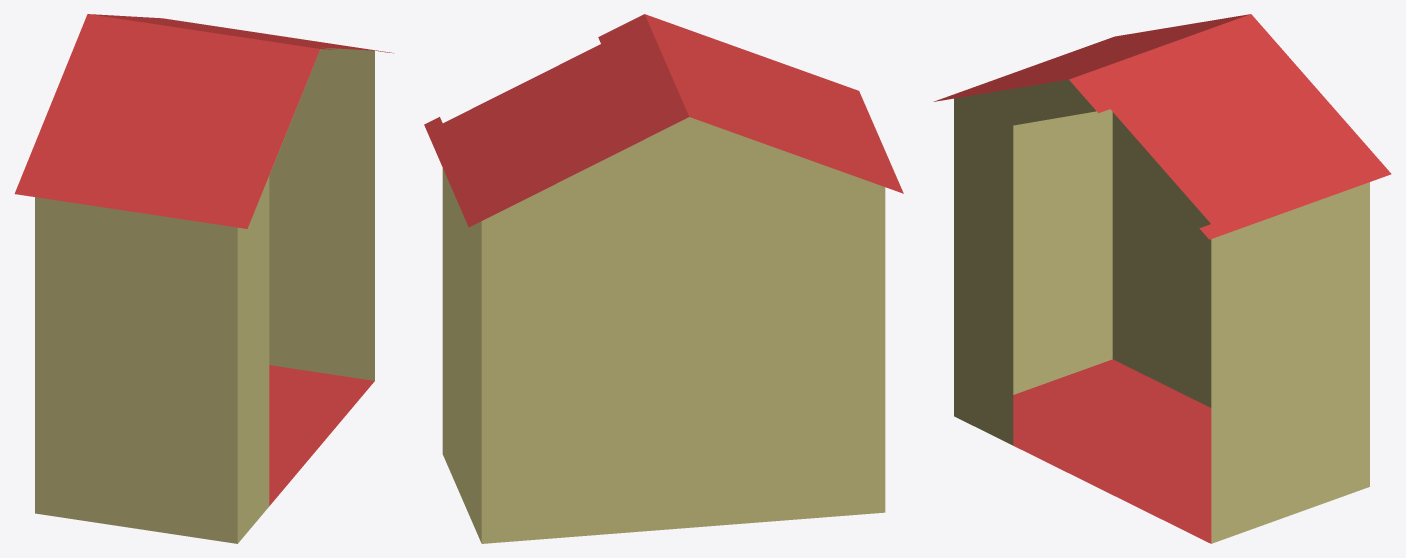
3 renders of one model, left to right at view 1: azimuth 30°, elevation 25°; view 2: azimuth 150°, elevation 25°; view 3: azimuth 270°, elevation 25°, orthographic. The views are drawn at different scales.
Bounding box in the file's own units: 15.45 × 14.77 × 14.32.
